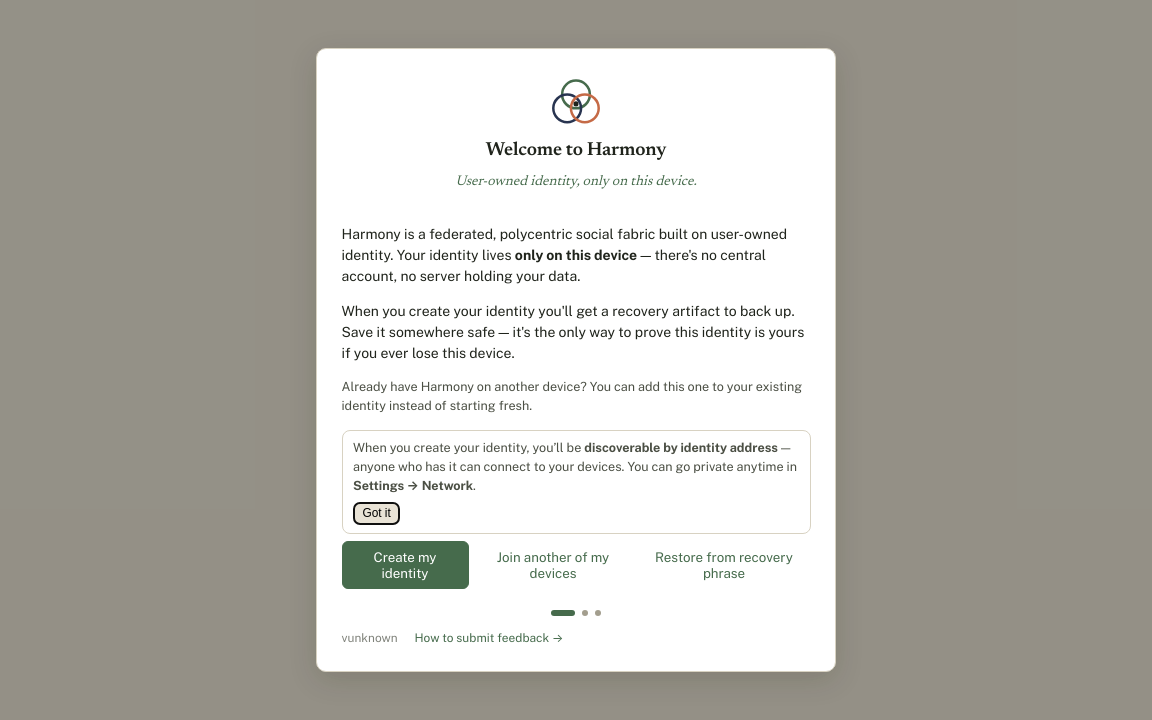
Test: WelcomeModal hard gate + flow › offers a reload escape when mint reports the identity already exists
Click the button with test id "welcome-create-identity". click: (405, 565)
box: left=342, top=541, right=468, bottom=589
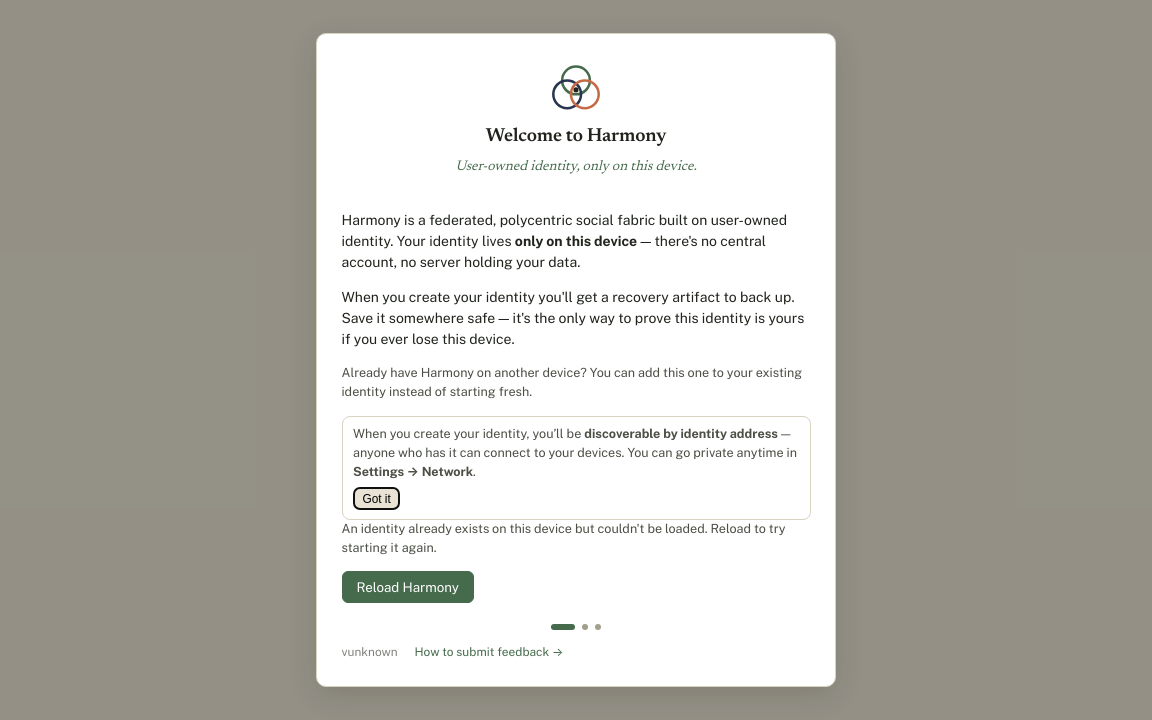
Check: the button with test id "welcome-already-exists-reload" is shown, box left=342, top=572, right=474, bottom=604
Check: the button with test id "welcome-create-identity" is gone
